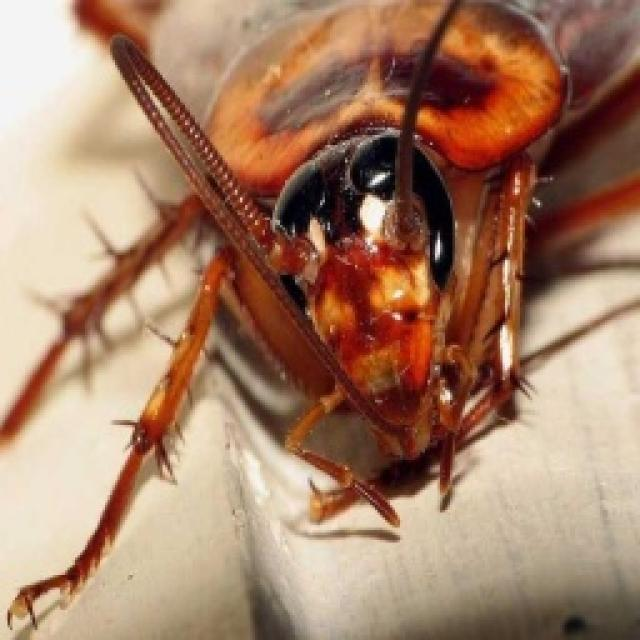cockroach: (5, 0, 639, 600)
